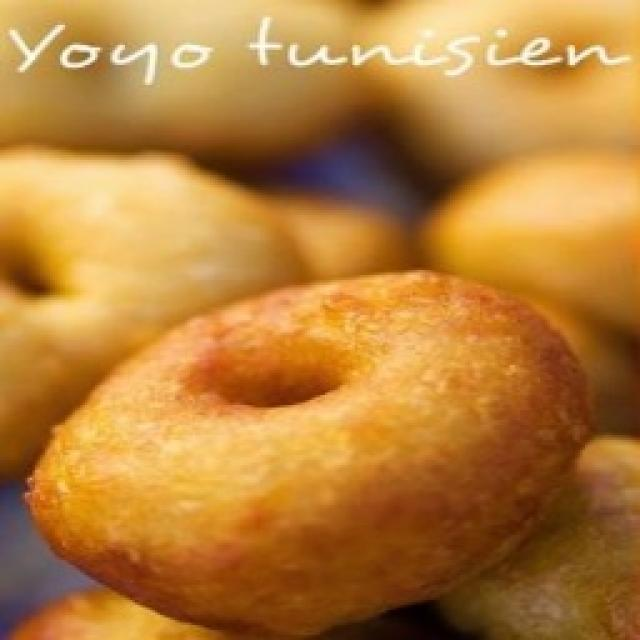Frecasse: (0, 145, 640, 640)
